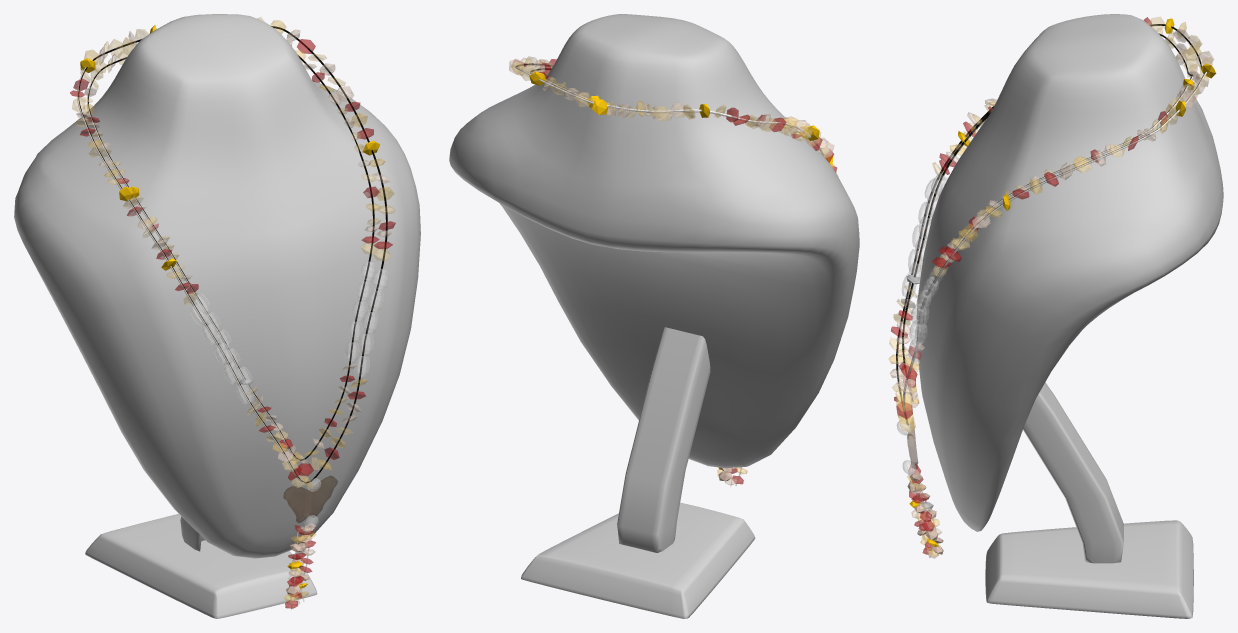
File: necklace1-transformed.glb
3 views of the same model, side by side, from view 1: azimuth 30°, elevation 25°; view 2: azimuth 150°, elevation 25°; view 3: azimuth 270°, elevation 25° (orthographic).
Visible parts, largest first — view 1: polySurface2_phong1_0, polySurface107_pasted__phong3_0, polySurface30_pasted__phong1_0, polySurface7_pasted__phong2_0, polySurface4_pasted__phong4_0, polySurface5_pasted__phong6_0, polySurface1_pasted__phong5_0, planarTrimmedSurface1_phong3_0, polySurface20_pasted__phong8_0, polySurface116_pasted__phong7_0; view 2: polySurface2_phong1_0, polySurface7_pasted__phong2_0, polySurface5_pasted__phong6_0, polySurface107_pasted__phong3_0, polySurface4_pasted__phong4_0, polySurface1_pasted__phong5_0, polySurface20_pasted__phong8_0; view 3: polySurface2_phong1_0, polySurface107_pasted__phong3_0, polySurface5_pasted__phong6_0, polySurface7_pasted__phong2_0, polySurface30_pasted__phong1_0, polySurface4_pasted__phong4_0, polySurface1_pasted__phong5_0, polySurface20_pasted__phong8_0, polySurface116_pasted__phong7_0.
Part boxes in pixels (box(x1,y1,x2,y2)): polySurface2_phong1_0: box(14, 14, 420, 618); polySurface107_pasted__phong3_0: box(77, 26, 388, 483); polySurface30_pasted__phong1_0: box(190, 261, 388, 404); polySurface7_pasted__phong2_0: box(72, 17, 395, 487); polySurface4_pasted__phong4_0: box(70, 39, 395, 608); polySurface5_pasted__phong6_0: box(76, 29, 391, 609); polySurface1_pasted__phong5_0: box(83, 20, 394, 601); planarTrimmedSurface1_phong3_0: box(283, 476, 337, 522); polySurface20_pasted__phong8_0: box(80, 24, 379, 588); polySurface116_pasted__phong7_0: box(286, 523, 315, 597); polySurface2_phong1_0: box(449, 14, 859, 618); polySurface7_pasted__phong2_0: box(520, 58, 838, 176); polySurface5_pasted__phong6_0: box(509, 56, 834, 486); polySurface107_pasted__phong3_0: box(515, 63, 824, 156); polySurface4_pasted__phong4_0: box(513, 59, 836, 484); polySurface1_pasted__phong5_0: box(511, 61, 834, 477); polySurface20_pasted__phong8_0: box(529, 71, 833, 469); polySurface2_phong1_0: box(917, 14, 1223, 618); polySurface107_pasted__phong3_0: box(896, 24, 1206, 425); polySurface5_pasted__phong6_0: box(890, 29, 1214, 558); polySurface7_pasted__phong2_0: box(889, 17, 1212, 417); polySurface30_pasted__phong1_0: box(902, 173, 947, 362); polySurface4_pasted__phong4_0: box(891, 17, 1167, 554); polySurface1_pasted__phong5_0: box(889, 22, 1201, 555); polySurface20_pasted__phong8_0: box(909, 18, 1216, 546); polySurface116_pasted__phong7_0: box(907, 473, 943, 554).
Size of the model in its own units: 13.66 by 18.97 by 10.62.
Materials: 12 (3 with a texture image).
